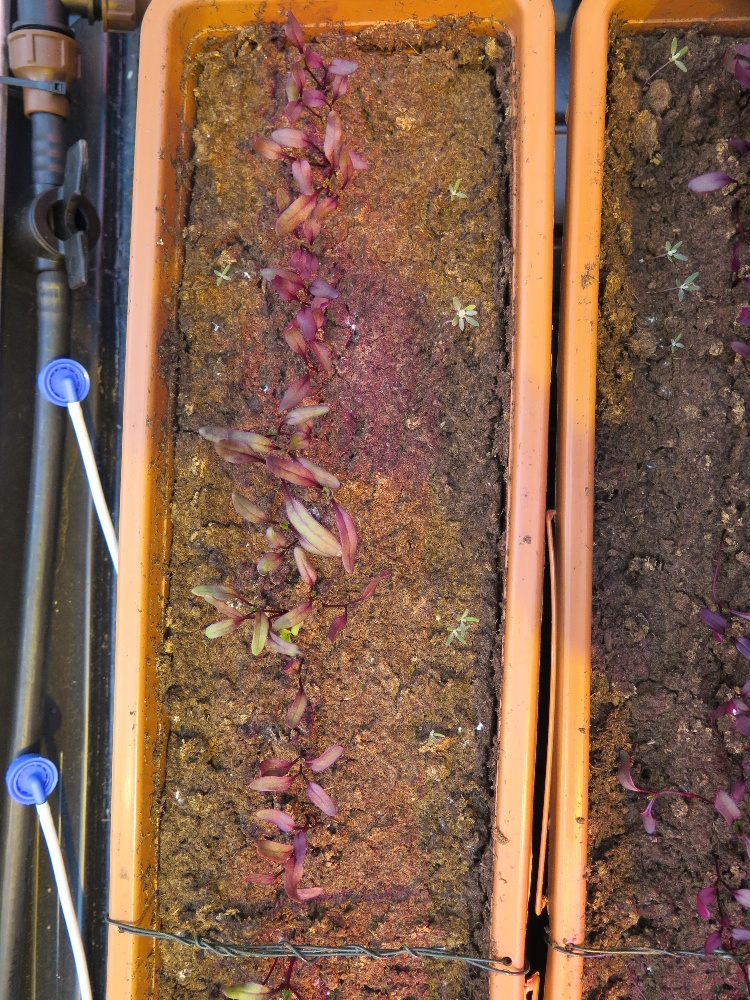crop: (209, 469, 412, 606), (185, 554, 339, 703), (224, 669, 360, 812), (615, 748, 750, 869), (233, 796, 360, 924), (224, 387, 339, 518), (253, 107, 386, 218), (251, 198, 355, 332), (269, 10, 356, 132), (245, 300, 351, 396), (679, 851, 750, 969), (694, 109, 750, 242), (700, 575, 750, 675), (709, 242, 750, 351), (703, 687, 750, 775), (712, 33, 750, 109)
weed: (430, 278, 482, 327), (660, 321, 706, 372), (442, 596, 482, 651), (663, 266, 703, 315), (669, 33, 703, 81), (445, 178, 482, 211), (651, 242, 694, 269)
